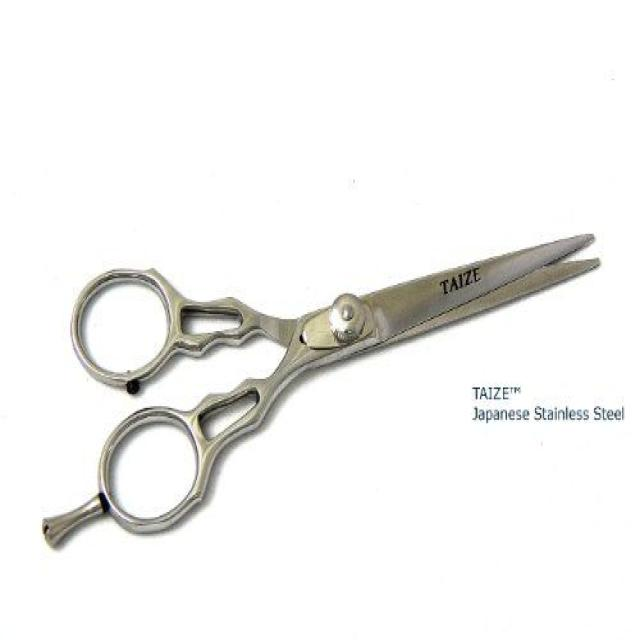scissor: (40, 196, 618, 555)
